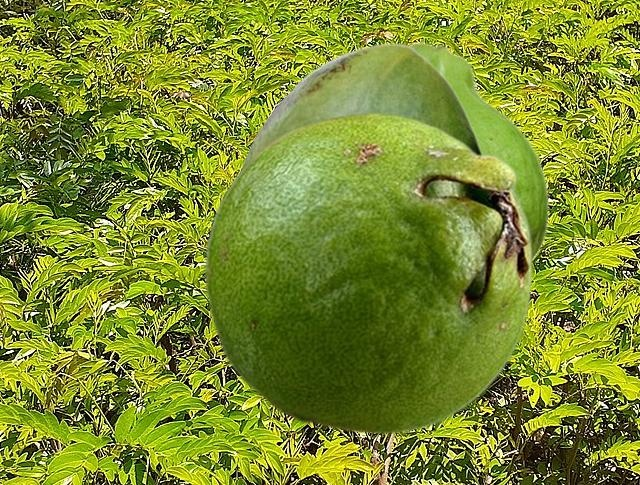guava: (204, 112, 532, 434), (237, 43, 485, 172), (408, 41, 548, 262)
